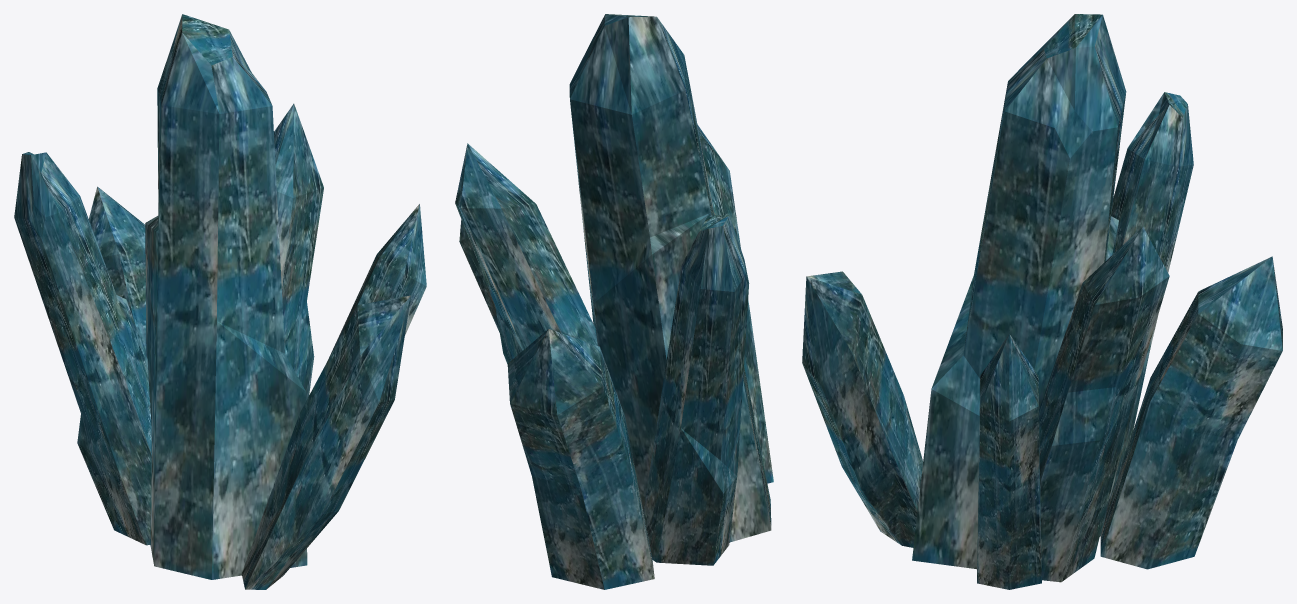
The model's file is AQUAMARIN_CRYSTAL.glb.
3 renders of one model, left to right at view 1: azimuth 30°, elevation 25°; view 2: azimuth 150°, elevation 25°; view 3: azimuth 270°, elevation 25°, orthographic. The views are drawn at different scales.
Parts seen in each view (by area): view 1: AQUAMARIN_CRYSTAL; view 2: AQUAMARIN_CRYSTAL; view 3: AQUAMARIN_CRYSTAL.
Boxes of the visible parts, x1,y1,x2,y2 form: AQUAMARIN_CRYSTAL: (14,14,426,589); AQUAMARIN_CRYSTAL: (455,14,773,589); AQUAMARIN_CRYSTAL: (802,14,1282,589).
Bounding box in the file's own units: 0.0979 × 0.1396 × 0.1153.
1 material, 1 textured.
